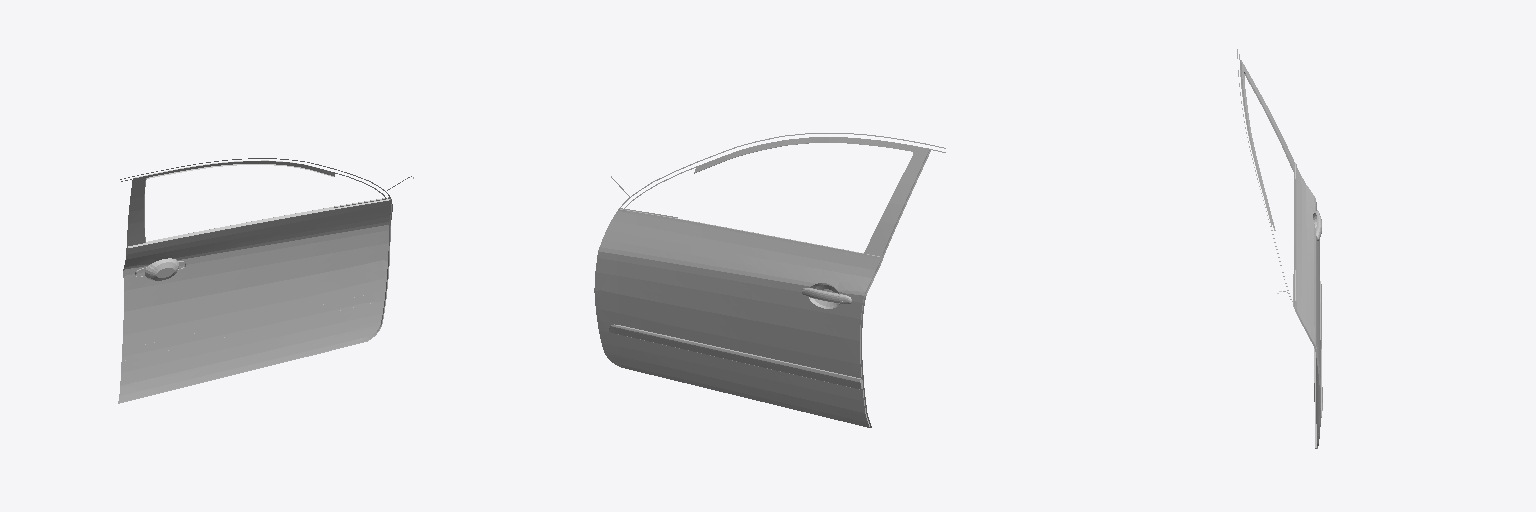
The picture shows the model from 3 angles: view 1: azimuth 30°, elevation 25°; view 2: azimuth 150°, elevation 25°; view 3: azimuth 270°, elevation 25°; orthographic projection.
Visible parts, largest first — view 1: Z187_261B_L_Z187_261B_L_1_DaS, Z187_261B_L_2_D_Z187_261B_L, Z187_261B_L_Z187_261B_L_D, Z187_261B_L_Z187_261B_L_3_DaS, Z187_261B_L_Z187_261B_L_1_DaS_E; view 2: Z187_261B_L_Z187_261B_L_1_DaS, Z187_261B_L_2_D_Z187_261B_L, Z187_261B_L_Z187_261B_L_D, Z187_261B_L_Z187_261B_L_3_DaS, Z187_261B_L_Z187_261B_L_1_DaS_E; view 3: Z187_261B_L_Z187_261B_L_1_DaS, Z187_261B_L_2_D_Z187_261B_L.
Boxes of the visible parts, box(x1,y1,x2,y2) form: Z187_261B_L_Z187_261B_L_1_DaS: box(120, 201, 390, 401); Z187_261B_L_2_D_Z187_261B_L: box(128, 160, 334, 245); Z187_261B_L_Z187_261B_L_D: box(118, 158, 413, 403); Z187_261B_L_Z187_261B_L_3_DaS: box(128, 197, 390, 248); Z187_261B_L_Z187_261B_L_1_DaS_E: box(122, 204, 391, 401); Z187_261B_L_Z187_261B_L_1_DaS: box(594, 212, 880, 427); Z187_261B_L_2_D_Z187_261B_L: box(694, 138, 929, 256); Z187_261B_L_Z187_261B_L_D: box(594, 133, 945, 427); Z187_261B_L_Z187_261B_L_3_DaS: box(618, 209, 881, 259); Z187_261B_L_Z187_261B_L_1_DaS_E: box(614, 223, 880, 426); Z187_261B_L_Z187_261B_L_1_DaS: box(1297, 168, 1322, 442); Z187_261B_L_2_D_Z187_261B_L: box(1240, 60, 1294, 230).
Bounding box in the file's own units: 162 × 128 × 37.91.